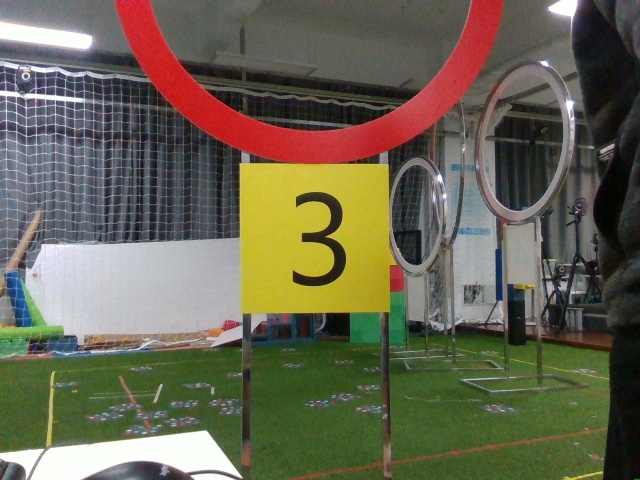target: (240, 166, 385, 310)
